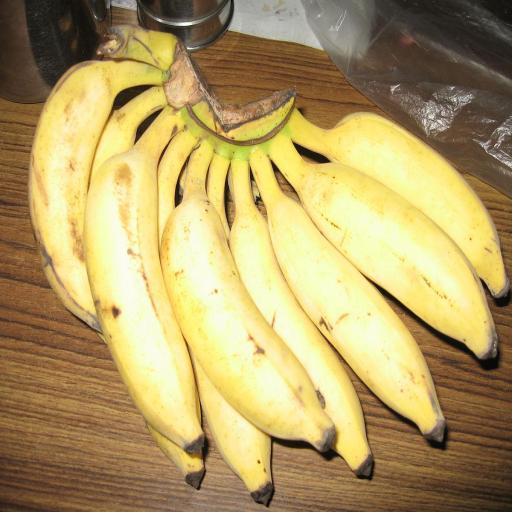banana: (250, 150, 445, 440), (160, 141, 334, 451), (267, 134, 497, 358), (230, 160, 372, 475), (287, 110, 509, 297), (84, 107, 203, 453), (29, 61, 166, 329)
